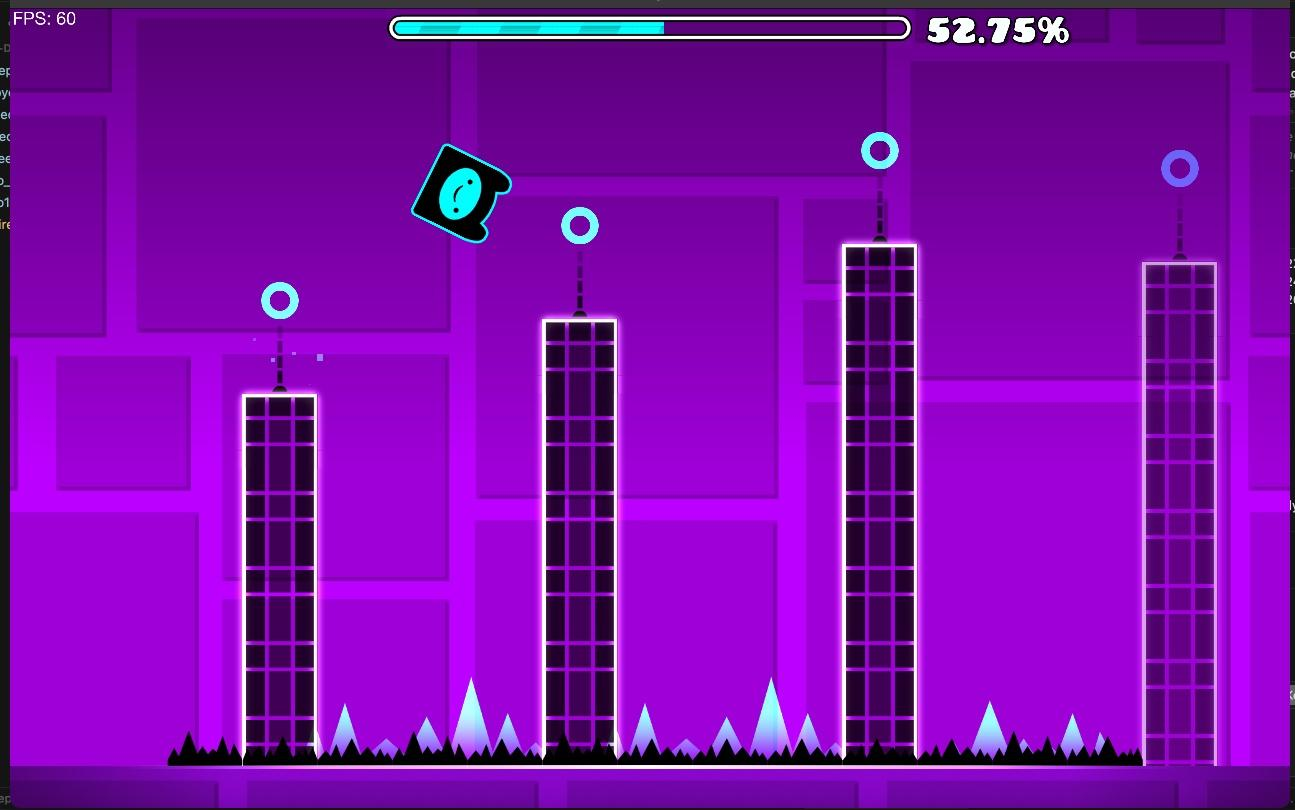block: (844, 244, 912, 759), (1146, 266, 1216, 766), (544, 321, 615, 763), (246, 394, 317, 767)
player: (411, 143, 510, 242)
spike: (917, 736, 1143, 765), (446, 683, 490, 756), (789, 715, 842, 758), (321, 704, 366, 753), (625, 705, 665, 753), (494, 717, 526, 753), (708, 719, 735, 755), (415, 718, 441, 750), (374, 739, 393, 756), (746, 742, 764, 752), (674, 741, 687, 754)
